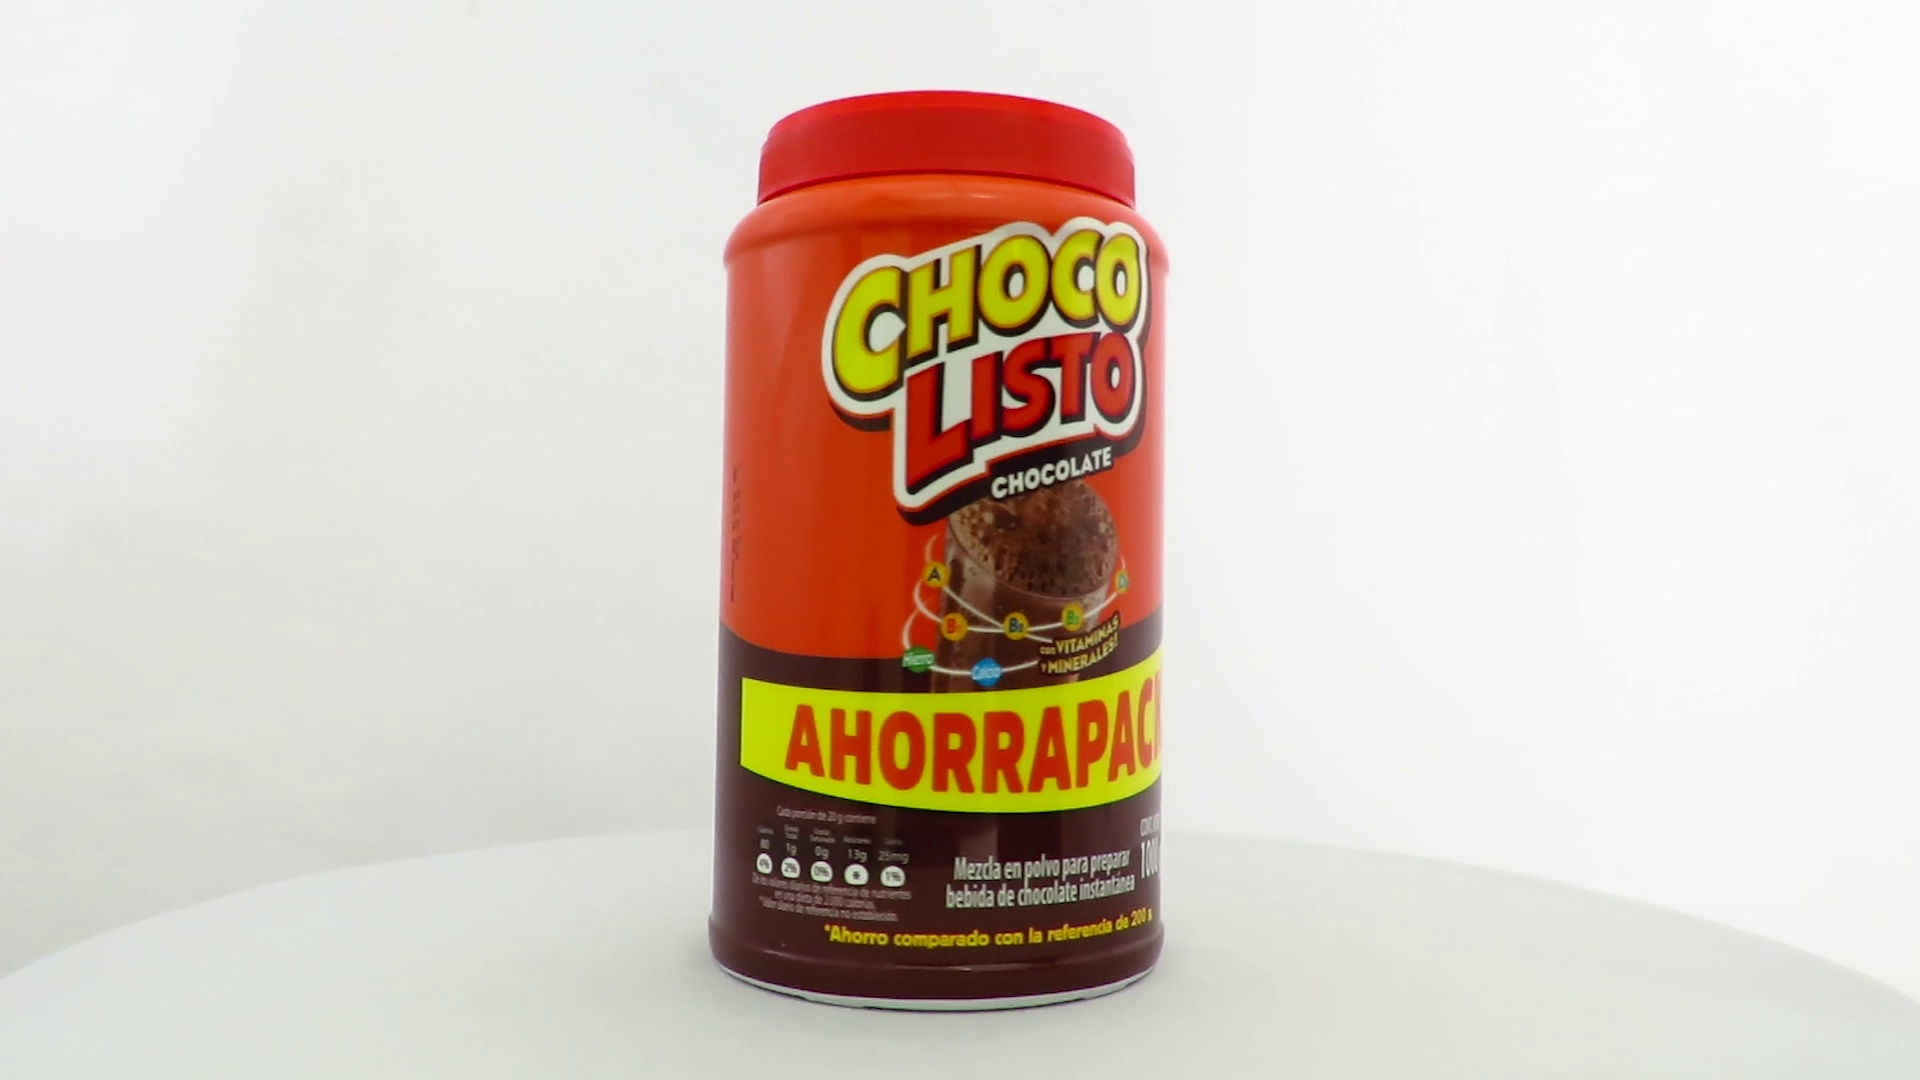COL0170103TRR00100: (703, 84, 1174, 1021)
